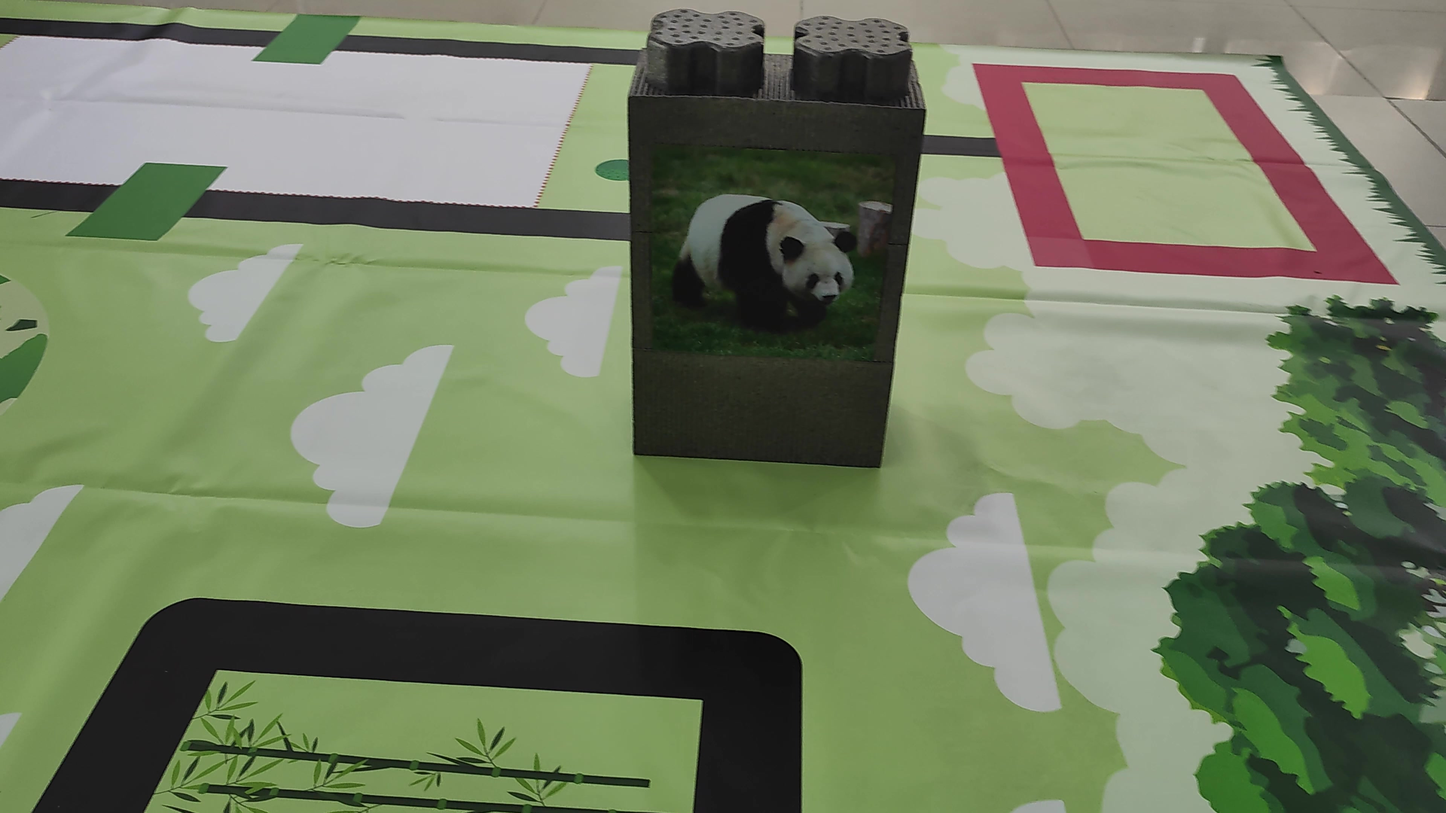panda: (671, 177, 872, 359)
